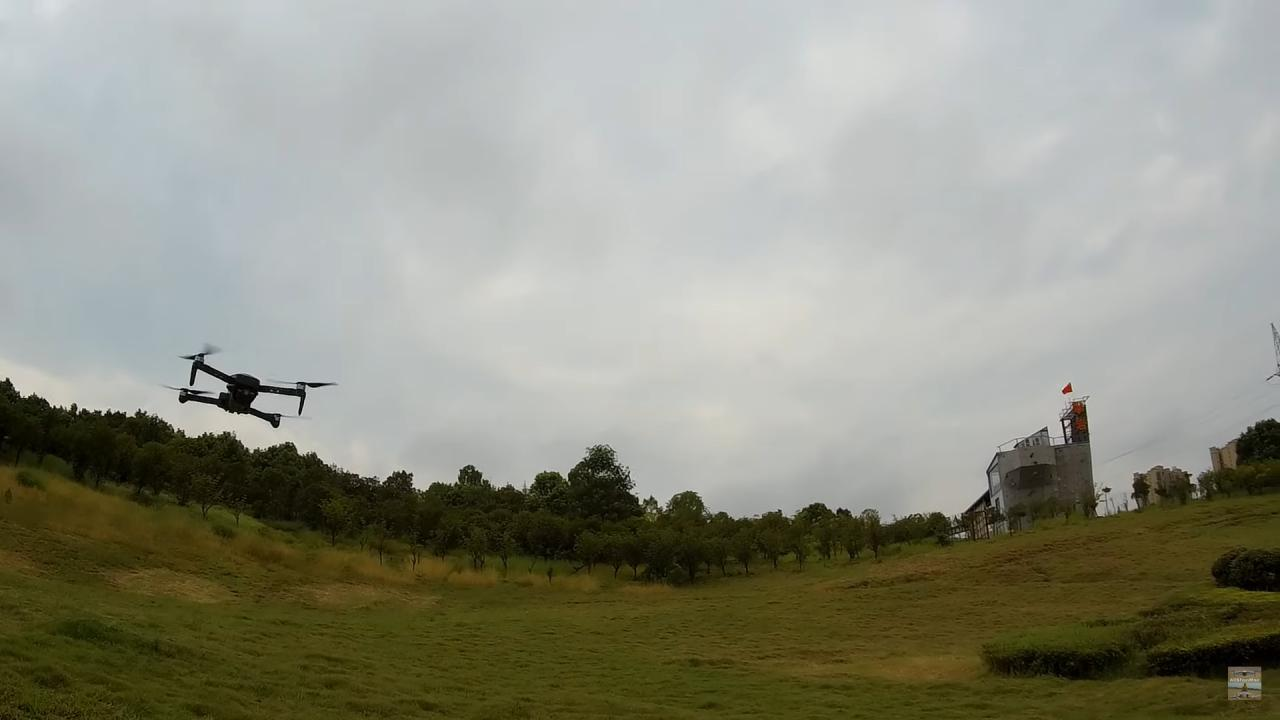Drone: (150, 330, 349, 435)
